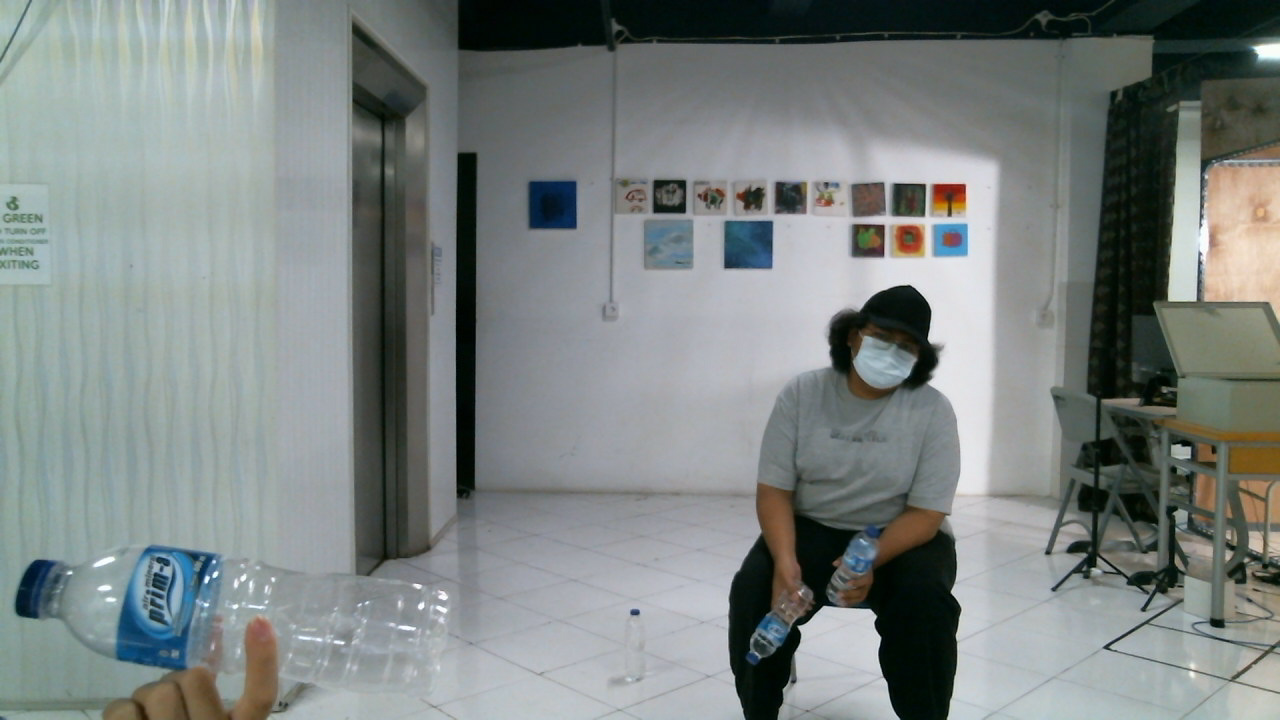Bottle: (16, 543, 457, 698), (739, 581, 816, 667)
